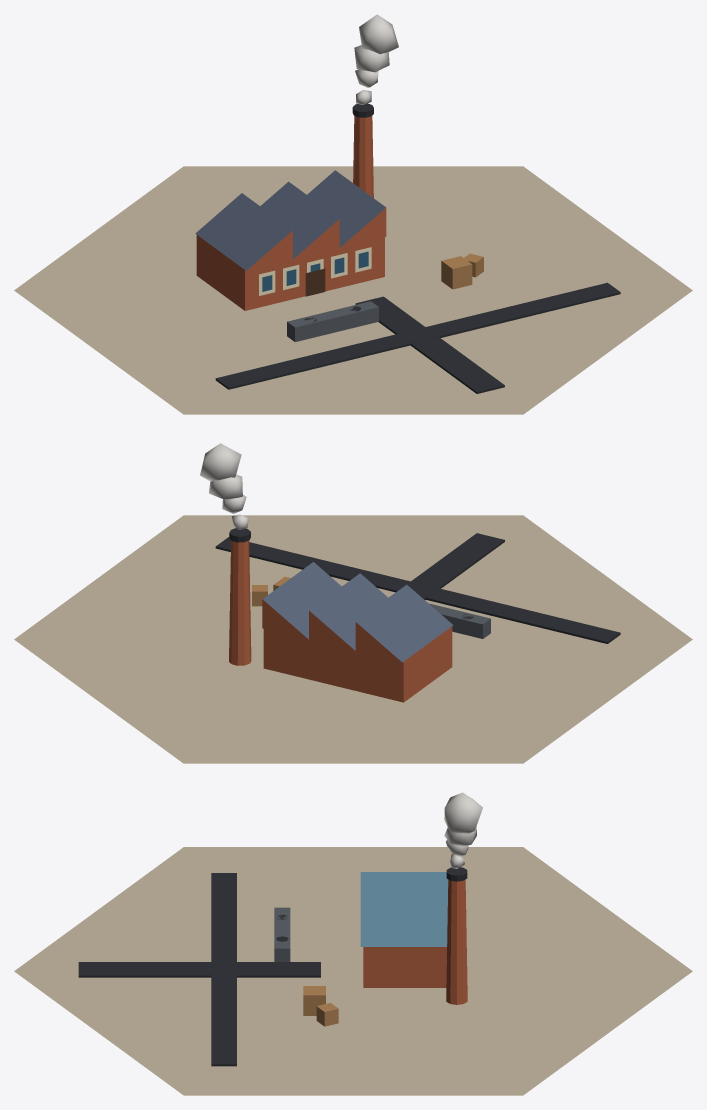
The model's file is district_industrial_zone_1.fbx.
3 views of the same model, one above another, from view 1: azimuth 30°, elevation 25°; view 2: azimuth 150°, elevation 25°; view 3: azimuth 270°, elevation 25° (orthographic).
Visible parts, largest first — view 1: district_industrial_zone_1; view 2: district_industrial_zone_1; view 3: district_industrial_zone_1.
Boxes of the visible parts, x1,y1,x2,y2 form: district_industrial_zone_1: (14,14,692,414); district_industrial_zone_1: (14,443,692,763); district_industrial_zone_1: (14,792,692,1095).
Bounding box in the file's own units: 182 × 74.11 × 210.
